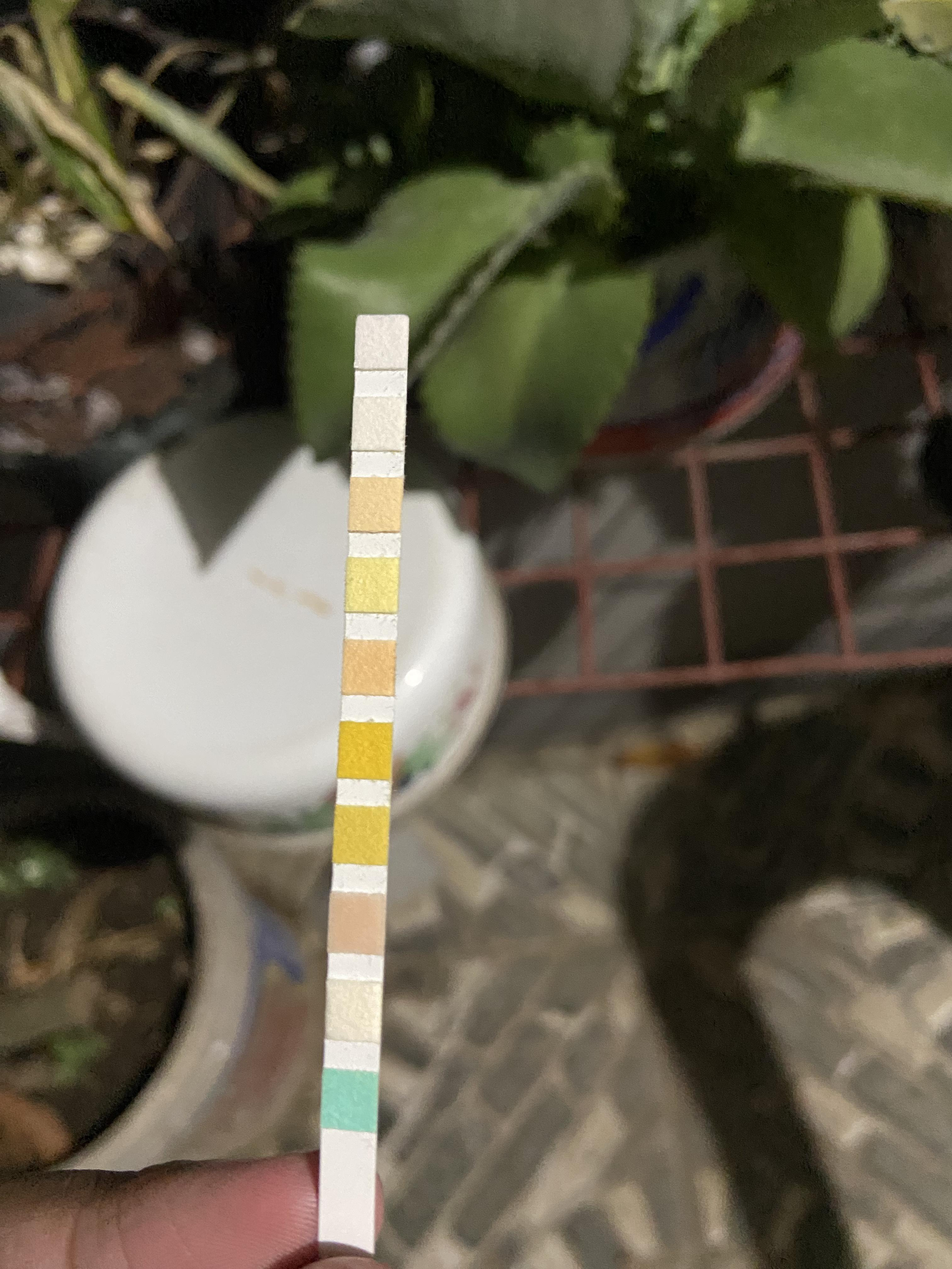Bilirubin: (327, 985, 381, 1040)
Blood: (340, 725, 390, 777)
Glucose: (322, 1072, 376, 1127)
Ketone: (331, 896, 385, 950)
Leukocytes: (357, 316, 407, 368)
Nitrite: (354, 399, 404, 451)
Protein: (347, 559, 397, 611)
SpGravity: (335, 808, 389, 862)
Urobilinogen: (351, 479, 401, 531)
pH: (345, 641, 395, 694)
strip: (319, 313, 409, 1252)
